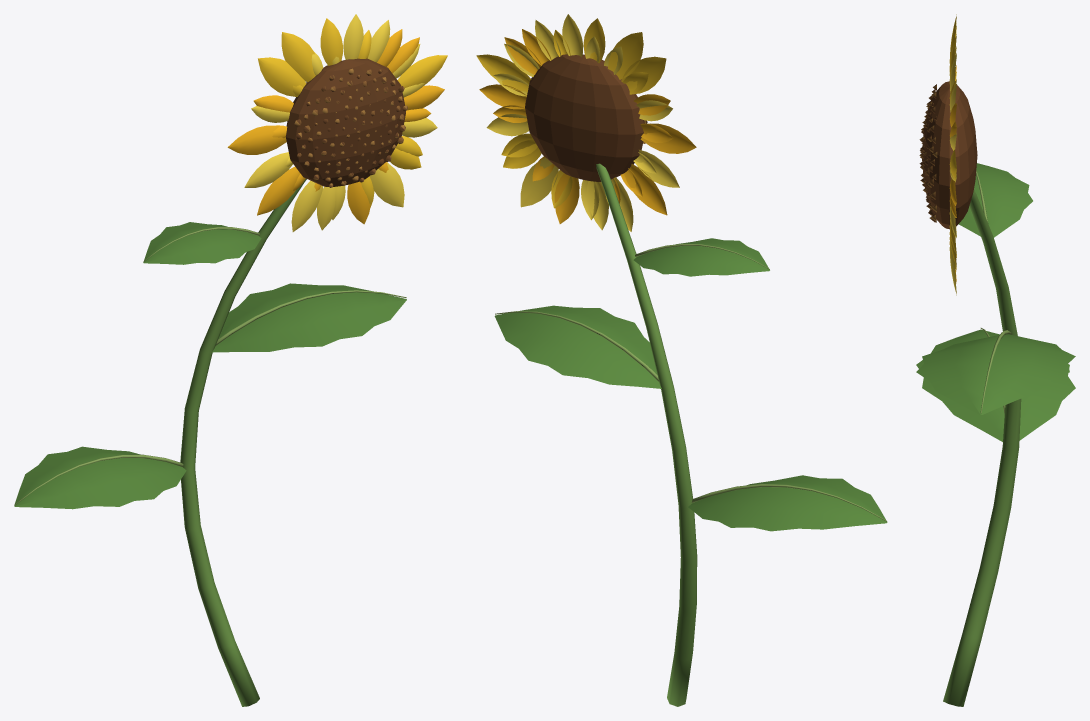
Rendered from sunflower-test-bloom-2-0.glb.
The picture shows the model from 3 angles, left to right: view 1: azimuth 30°, elevation 25°; view 2: azimuth 150°, elevation 25°; view 3: azimuth 270°, elevation 25°; orthographic projection. The views are drawn at different scales.
Visible parts, largest first — view 1: Curved tapered stem; view 2: Curved tapered stem; view 3: Curved tapered stem.
Boxes of the visible parts, x1=… form: Curved tapered stem: x1=14, y1=14, x2=447, y2=706; Curved tapered stem: x1=476, y1=14, x2=887, y2=706; Curved tapered stem: x1=916, y1=14, x2=1075, y2=706.
Size of the model in its own units: 0.4297 by 0.649 by 0.1317.
